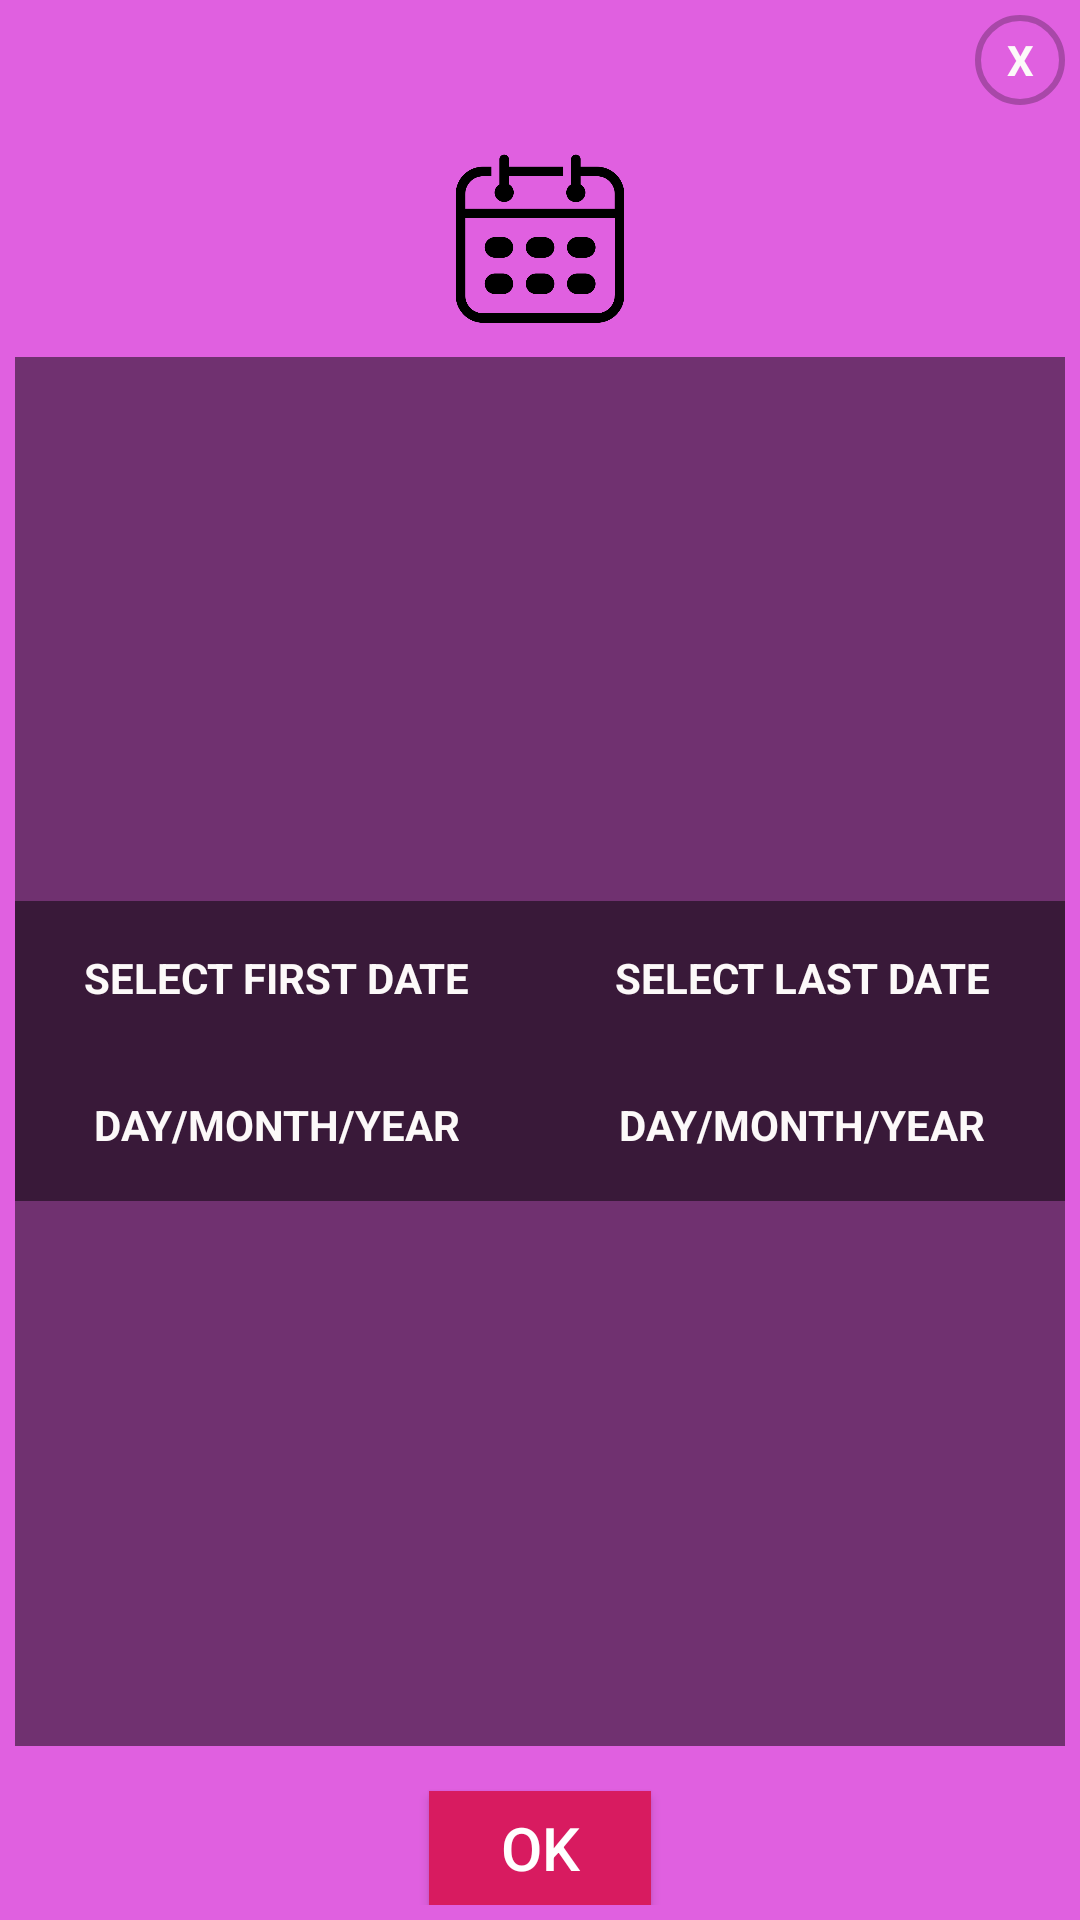

Locate icon controls on the screen. Image size 1080 × 1920, boxes as box(x1, y1, x2, y2).
calendar: box(456, 154, 624, 323)
